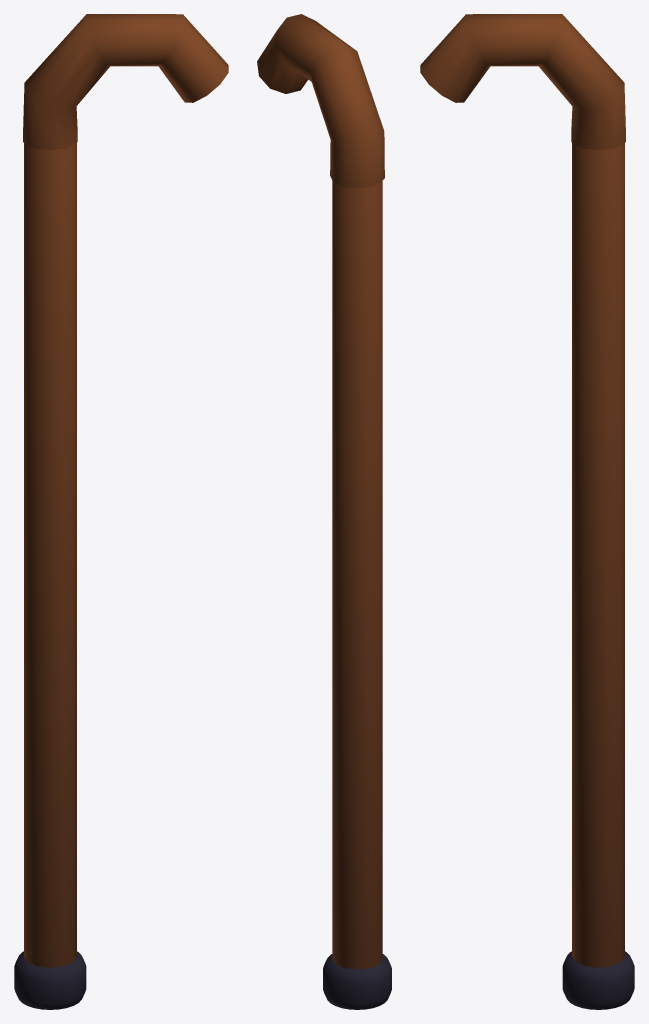
File: acc_cane.glb
3 renders of one model, left to right at view 1: azimuth 90°, elevation 25°; view 2: azimuth 210°, elevation 25°; view 3: azimuth 270°, elevation 25°, orthographic. The views are drawn at different scales.
Parts seen in each view (by area): view 1: Accessory; view 2: Accessory; view 3: Accessory.
Boxes of the visible parts, bbox=[...] form: Accessory: bbox=[14, 14, 228, 1009]; Accessory: bbox=[257, 14, 391, 1009]; Accessory: bbox=[420, 14, 634, 1009].
Size of the model in its own units: 0.06 by 0.9006 by 0.1783.
